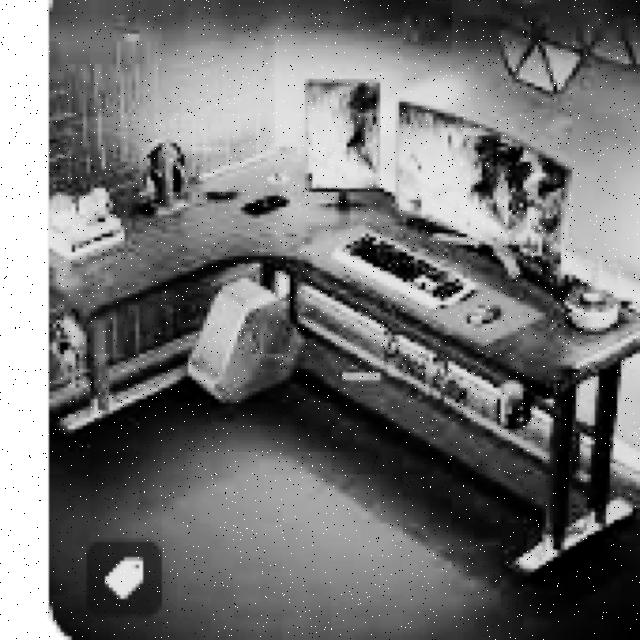table: (45, 139, 640, 580)
